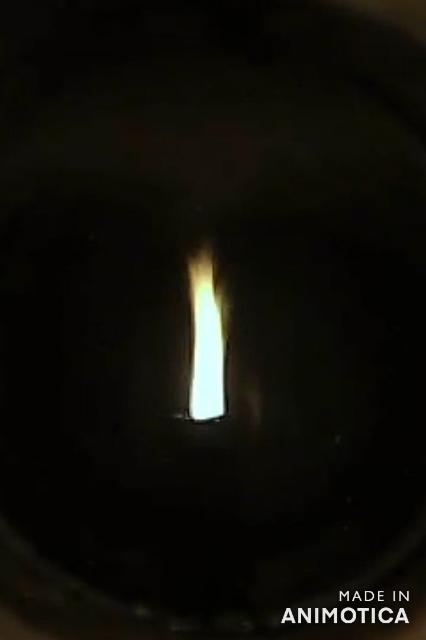burner flame: (182, 234, 234, 426)
